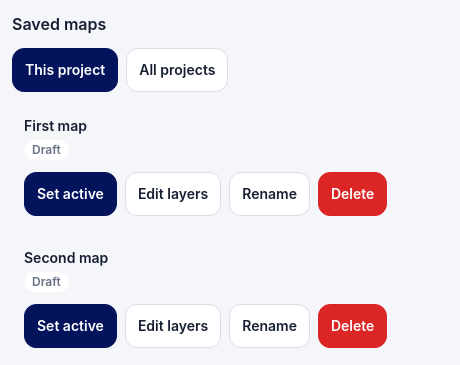
Scenario: SavedMapsList › only shows loading on the set-active button for the row being updated and disables other actions
Click the button "Set active" below "First map".
click(70, 194)  # box [24,172,117,216]
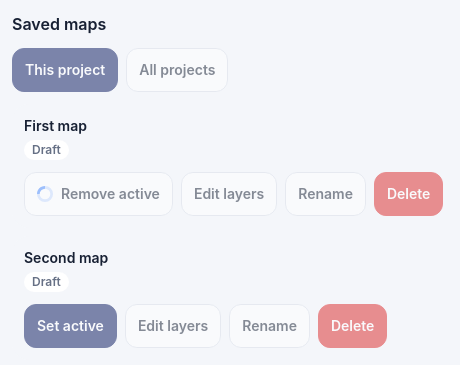
Expected: the button "Set active" is disabled, [24,304,117,348]
Expected: the button "Rename" below "Second map" is disabled, [229,304,310,348]
Expected: the button "Delete" below "Second map" is disabled, [318,304,387,348]
